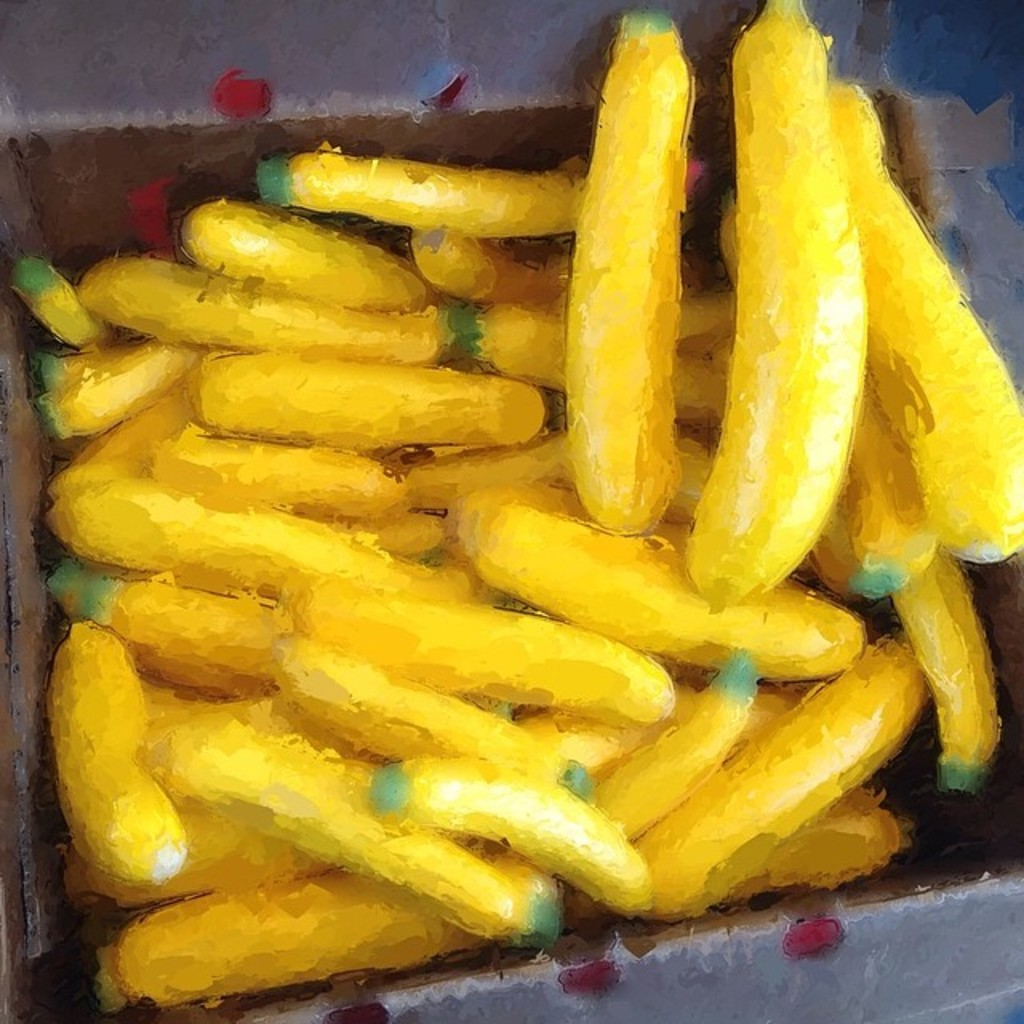French fries: (12, 60, 1024, 1008)
